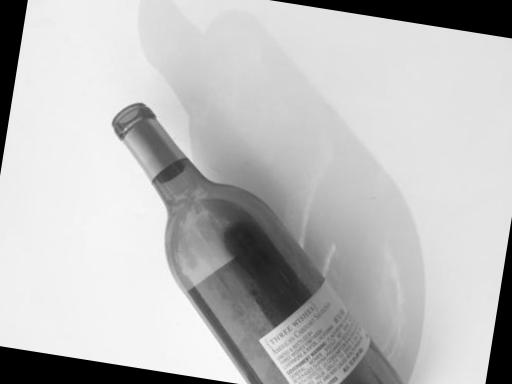glass: (67, 88, 498, 384)
